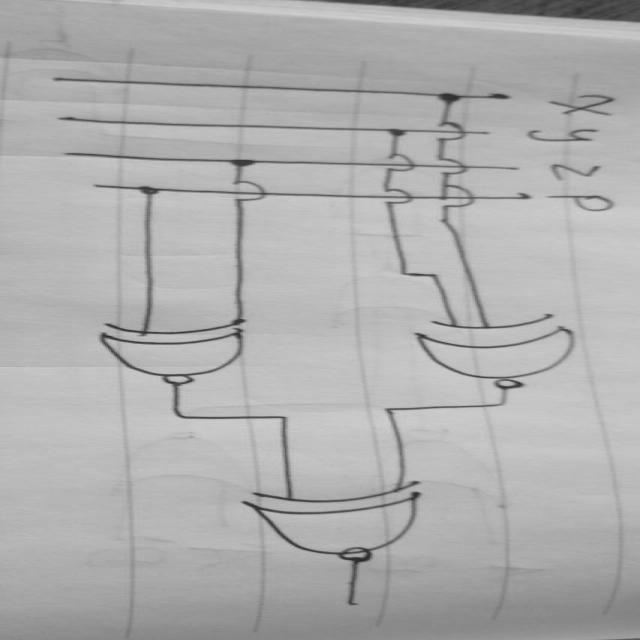XNOR: (168, 471, 502, 572), (382, 311, 627, 393), (79, 309, 308, 391)
